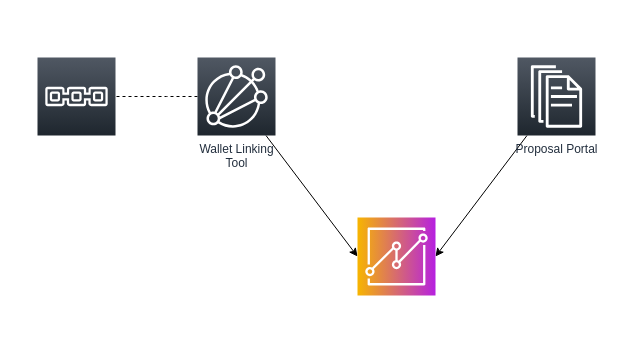
The diagram is 634 pixels wide and 354 high, and some of its shapes have lost their labels. The shapes that lost their labels are listed below. From the top down, each one's centre as x and y in pixels, then its label:
(x=76, y=96): AGIX Wallet
(x=396, y=256): CES Tool
